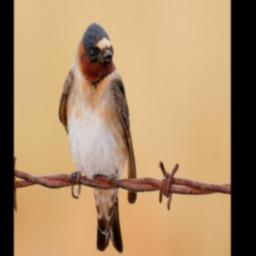Swallow: (58, 21, 137, 254)
